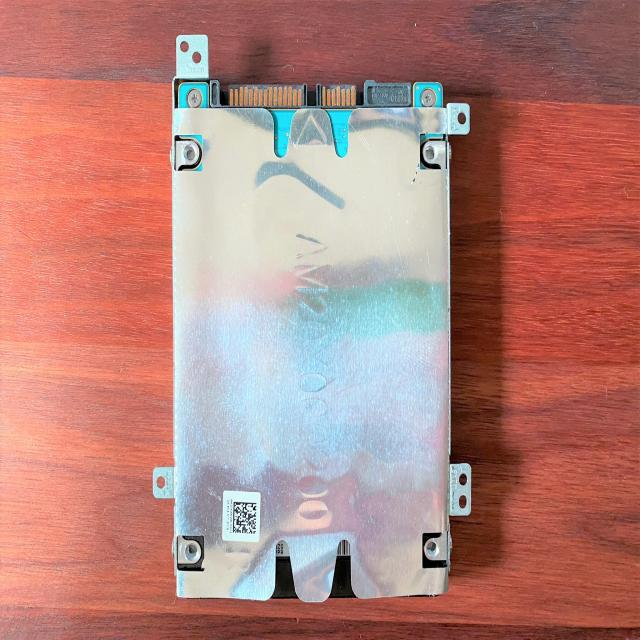PhillipsScrewHead: (420, 88, 435, 108), (187, 89, 202, 108)
